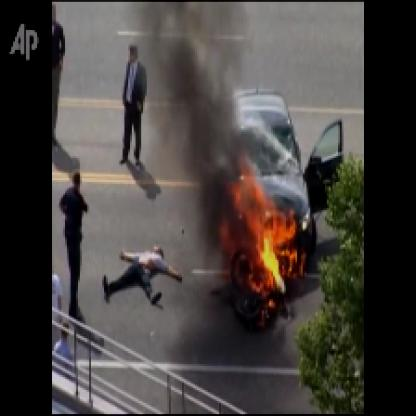Fire: (216, 148, 310, 316)
Smoke: (139, 4, 251, 202)
